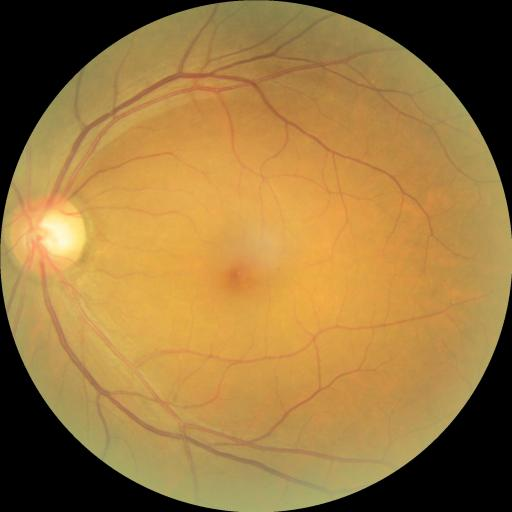Optic Cup: (31, 212, 72, 257)
Optic Disc: (8, 196, 86, 276)
